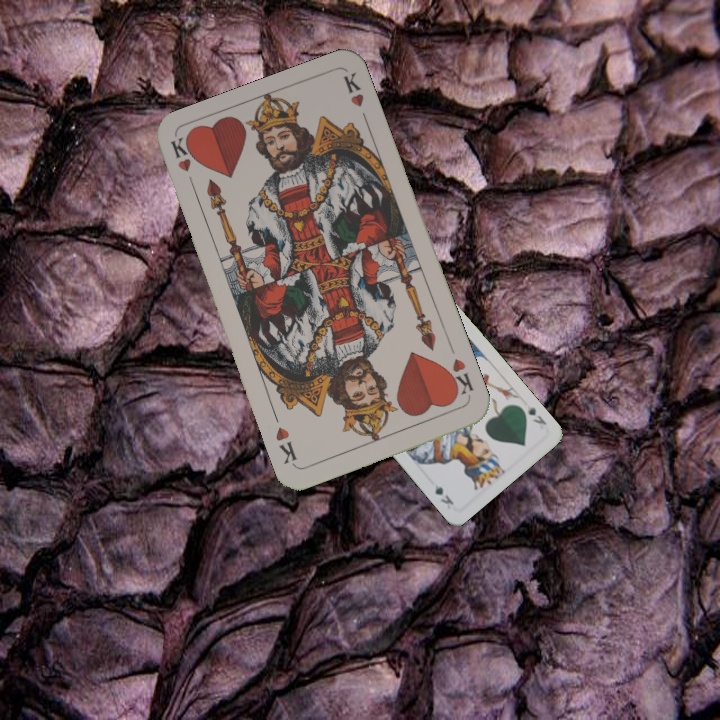GK: (524, 402, 549, 428)
HK: (167, 134, 199, 193), (441, 354, 476, 400)
